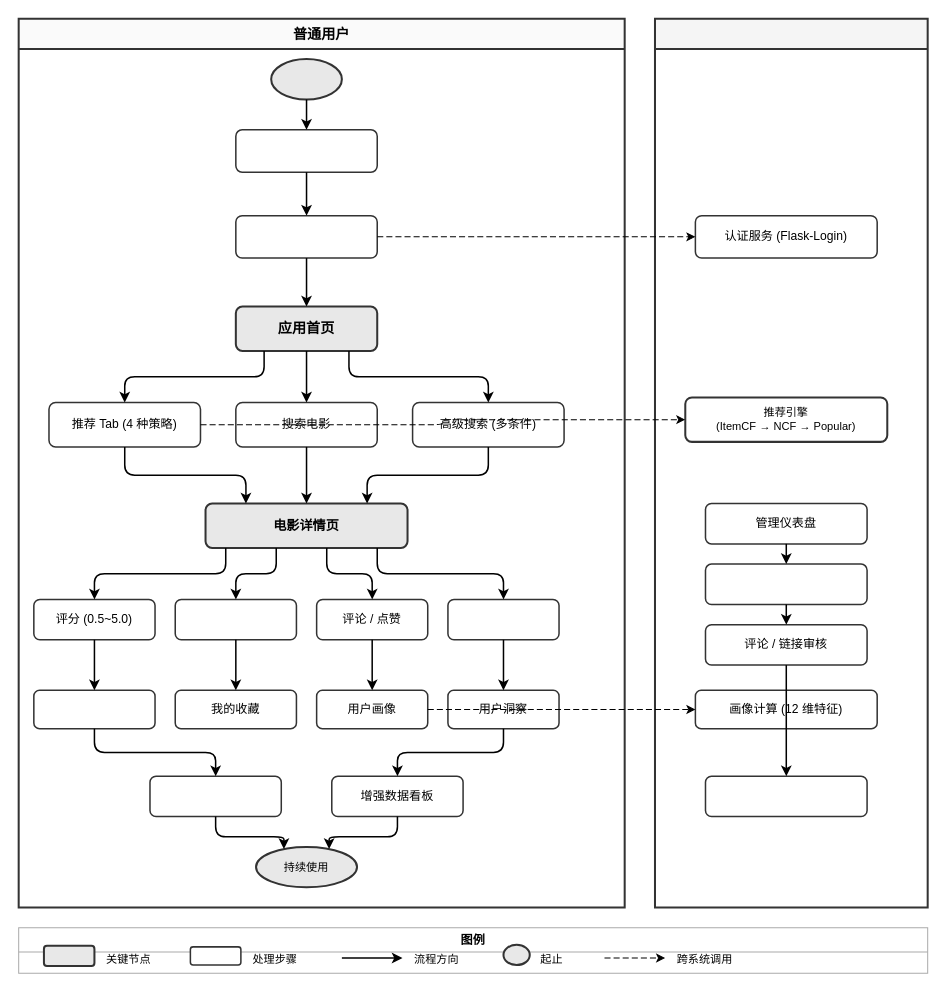
The diagram is 945 pixels wide and 991 high, and some of its shapes have lost their labels. The shapes that lost their labels are listed below. From the top down, each one's box as (x1, y1, x2, y2) in pixels, then its label:
(270, 58, 342, 100): 开始
(235, 129, 378, 173): 门户首页
(235, 214, 378, 258): 注册 / 登录
(653, 17, 928, 908): 系统 / 管理员
(704, 563, 867, 605): 电影 / 用户管理
(174, 598, 297, 640): 收藏 (3 种类型)
(447, 598, 559, 640): 观看链接
(33, 689, 155, 729): 我的评分
(149, 775, 282, 817): 上传电影
(704, 775, 867, 817): 数据导出
